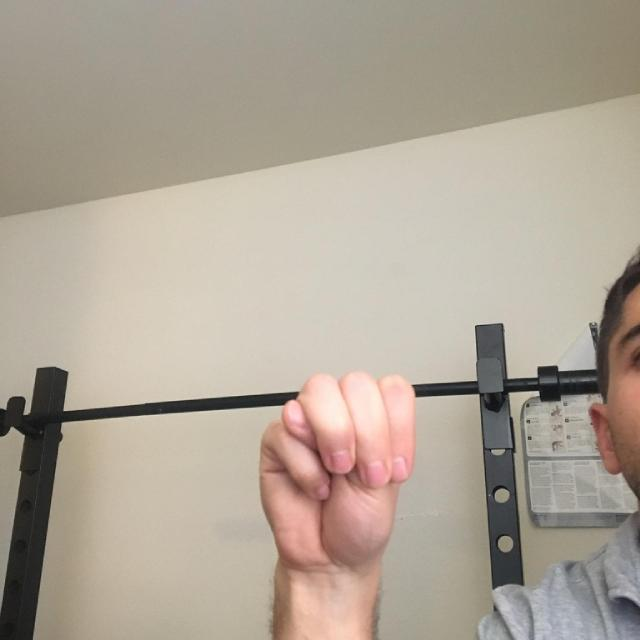M: (144, 344, 462, 627)
